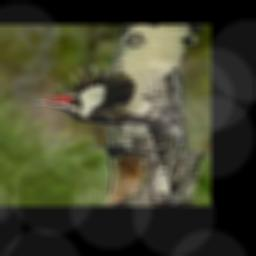Woodpecker: (26, 65, 178, 130)
